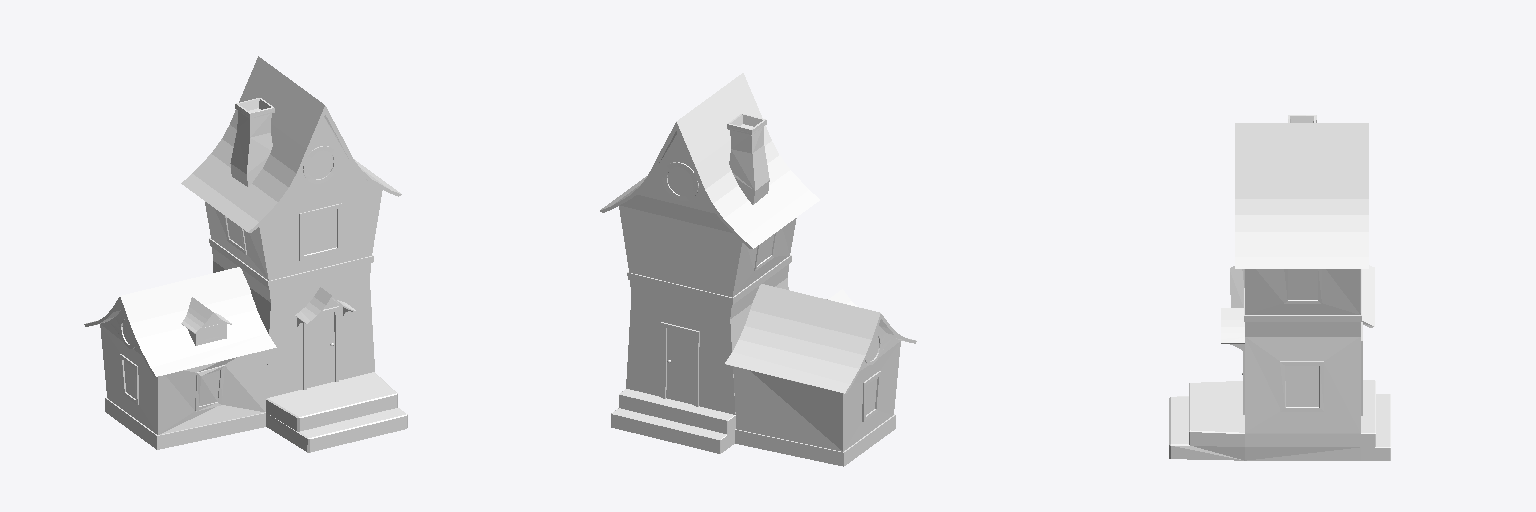
The model's file is paisaje.obj.
3 renders of one model, left to right at view 1: azimuth 30°, elevation 25°; view 2: azimuth 150°, elevation 25°; view 3: azimuth 270°, elevation 25°, orthographic.
Parts seen in each view (by area): view 1: house; view 2: house; view 3: house.
Boxes of the visible parts, x1=… form: house: x1=84, y1=56, x2=407, y2=452; house: x1=600, y1=73, x2=916, y2=466; house: x1=1169, y1=115, x2=1390, y2=460.
Size of the model in its own units: 14.62 by 17.49 by 11.28.